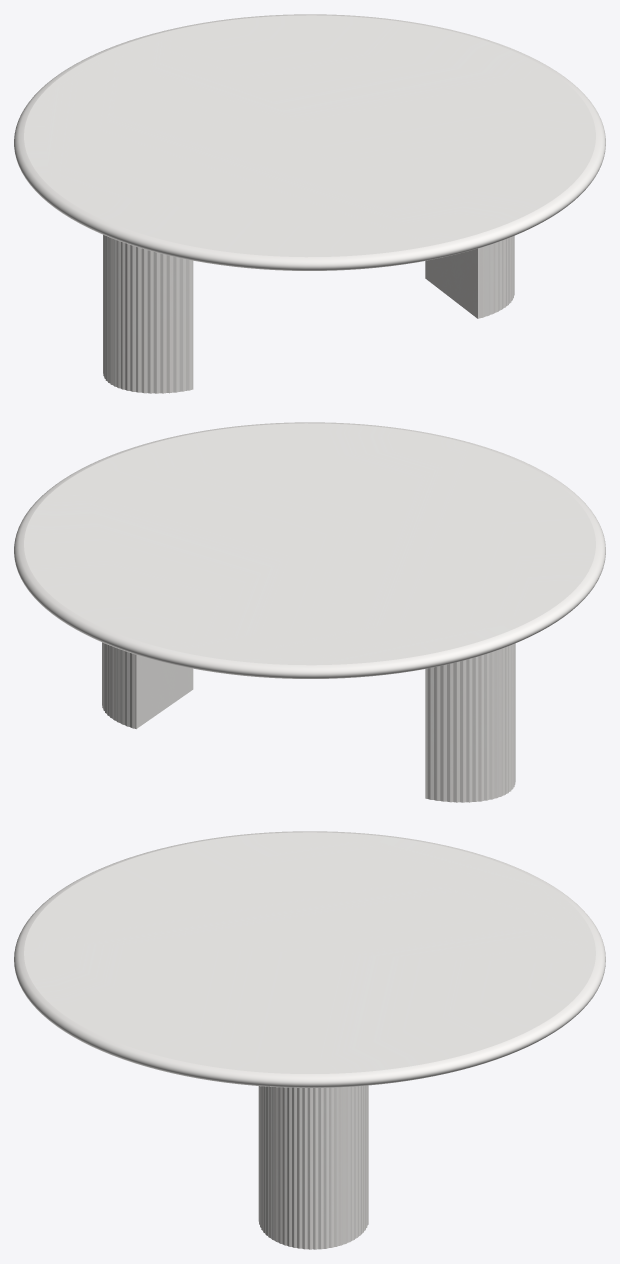
The model's file is purewhite_round_round_flute.glb.
3 renders of one model, top to bottom at view 1: azimuth 30°, elevation 25°; view 2: azimuth 150°, elevation 25°; view 3: azimuth 270°, elevation 25°, orthographic.
Parts seen in each view (by area): view 1: round_round, flute; view 2: round_round, flute; view 3: round_round, flute.
Boxes of the visible parts, x1,y1,x2,y2 form: round_round: [14, 14, 605, 270]; flute: [103, 235, 514, 393]; round_round: [14, 422, 605, 678]; flute: [102, 642, 515, 802]; round_round: [14, 831, 605, 1087]; flute: [258, 1085, 368, 1249].
Bounding box in the file's own units: 6.75 × 2.5 × 6.75.
1 material, 1 textured.
